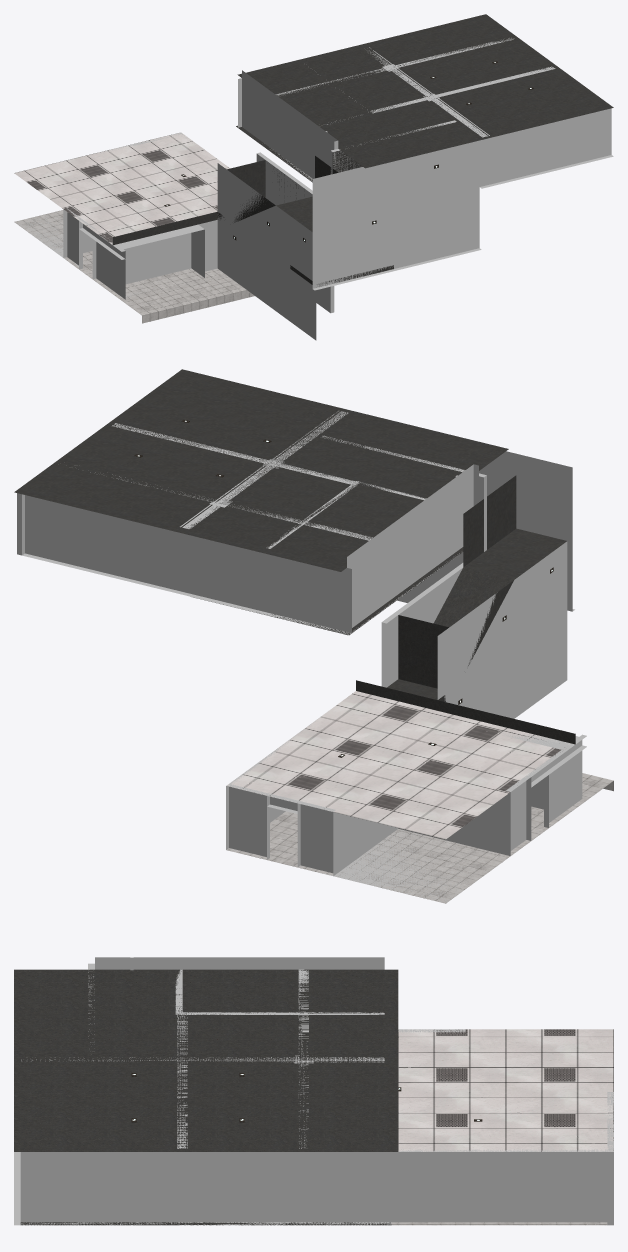
File: room2ccont_opt.fbx
The picture shows the model from 3 angles, top to bottom: view 1: azimuth 30°, elevation 25°; view 2: azimuth 150°, elevation 25°; view 3: azimuth 270°, elevation 25°; orthographic projection. The views are drawn at different scales.
Parts seen in each view (by area): view 1: Scene_Root.002; view 2: Scene_Root.002; view 3: Scene_Root.002.
Boxes of the visible parts, box(x1,y1,x2,y2) form: Scene_Root.002: box(14, 14, 613, 340); Scene_Root.002: box(14, 369, 613, 903); Scene_Root.002: box(14, 957, 613, 1225).
Bounding box in the file's own units: 2390 × 1021 × 2065.
